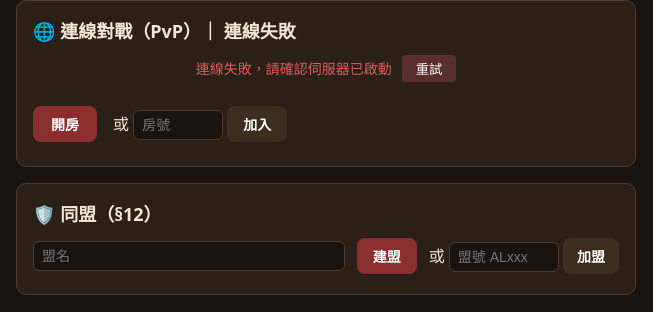
it: Pvp（連線對戰）連線逾時 + 重試 › 重試後連上，顯示已連線且開房按鈕可用
Click the button "重試" at (429, 68), box 402,55 -> 456,82
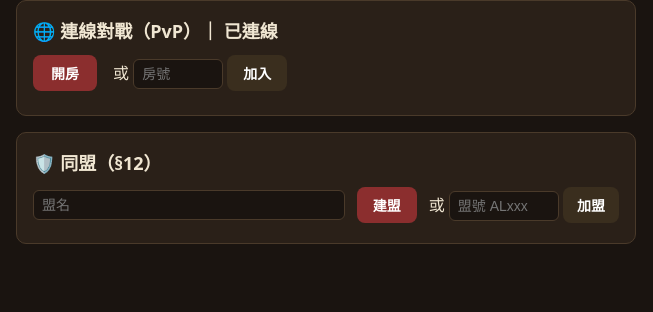
Result: the heading "🌐 連線對戰（PvP）｜ 已連線" is shown at 33,19 -> 278,43
Result: the button "開房" is enabled at 33,55 -> 97,91
